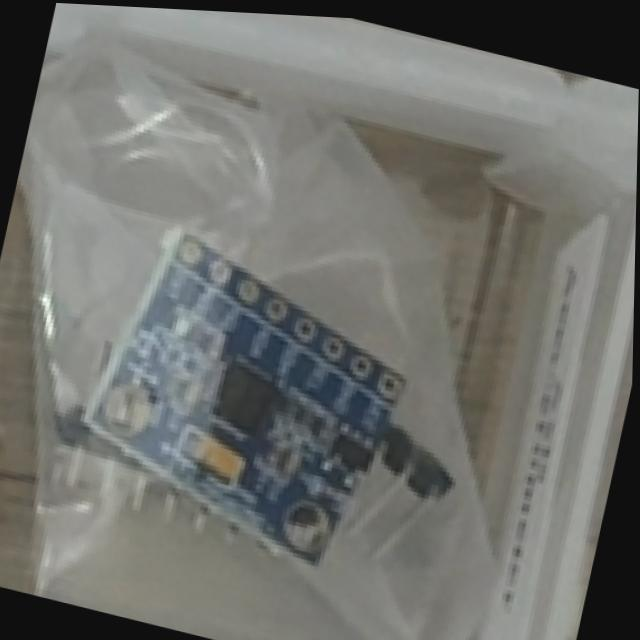Axis Accelerometer: (57, 217, 430, 594)
